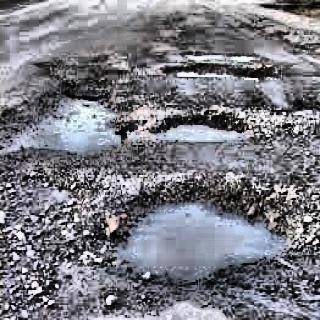pothole: (100, 188, 291, 282), (5, 93, 134, 159), (165, 48, 278, 85), (153, 112, 245, 152)
